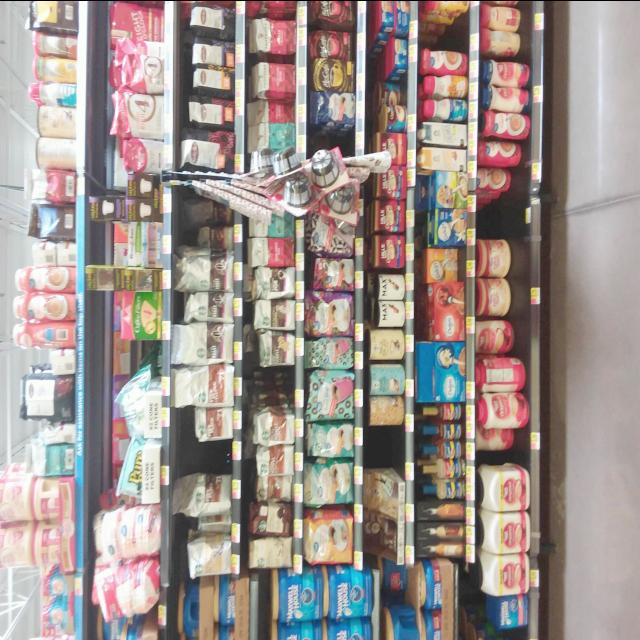empty_space: (178, 444, 230, 472), (309, 126, 353, 150), (370, 426, 402, 456), (421, 21, 468, 41), (486, 206, 522, 226)
